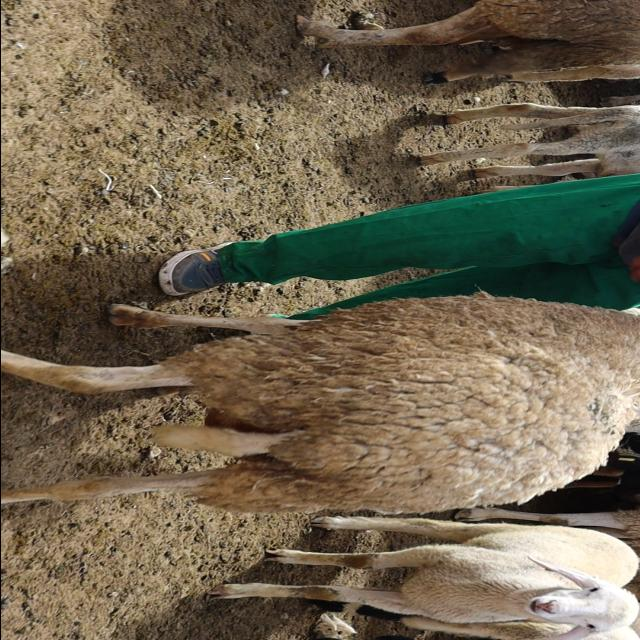Score_2: (1, 292, 640, 513)
